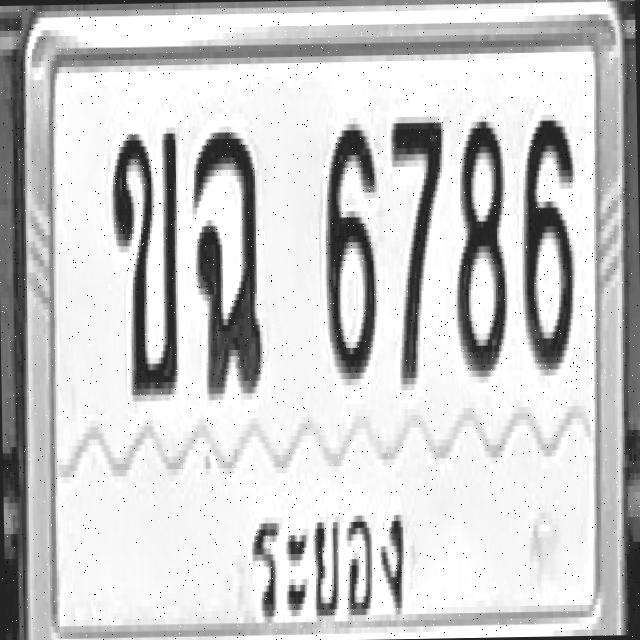11KhorKhai: (110, 127, 180, 395)
18ChorChing: (190, 125, 262, 394)
6: (322, 117, 378, 379), (519, 113, 575, 370)
7: (389, 116, 446, 384)
8: (452, 115, 507, 376)
Rayong: (234, 476, 415, 640)
